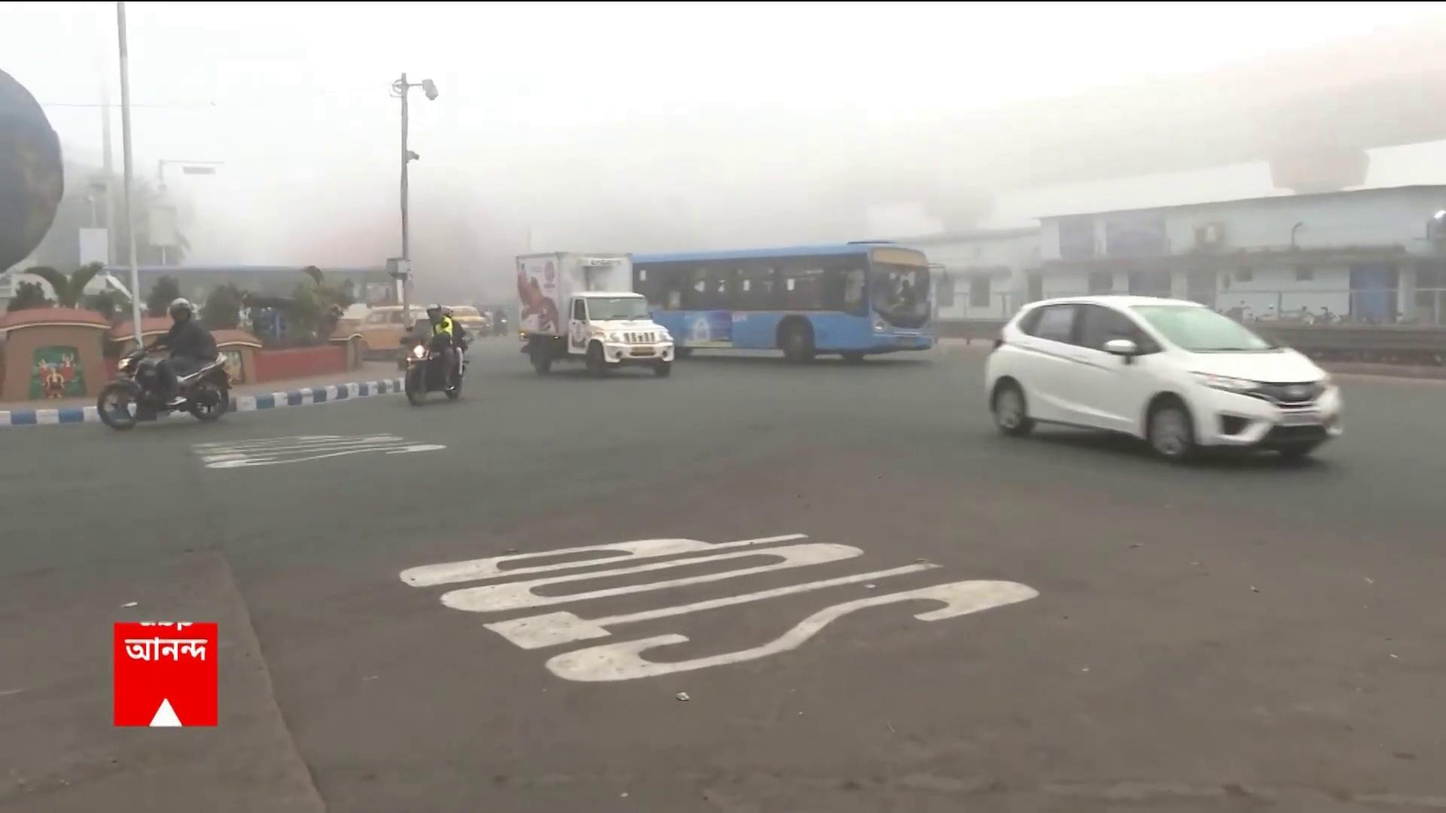Bike: (96, 295, 235, 428), (400, 301, 470, 404)
Bus: (672, 243, 937, 360)
Car: (982, 285, 1347, 466)
Truck: (513, 248, 675, 376)
